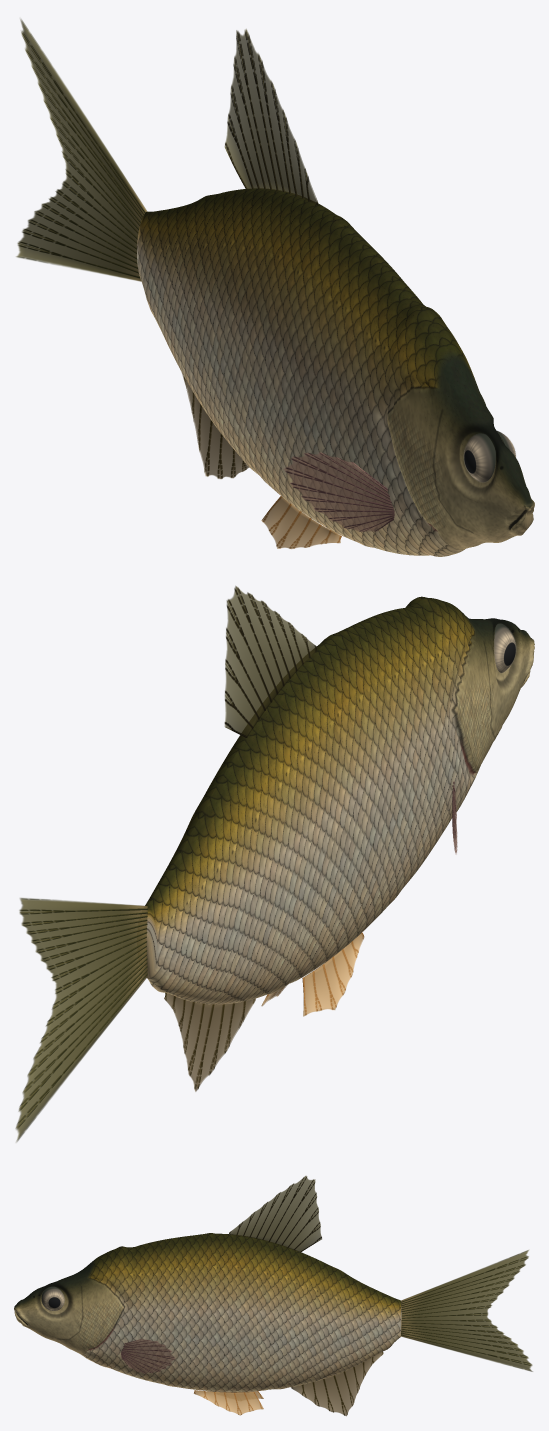
File: krap.glb
3 views of the same model, one above another, from view 1: azimuth 30°, elevation 25°; view 2: azimuth 150°, elevation 25°; view 3: azimuth 270°, elevation 25° (orthographic). The views are drawn at different scales.
Parts seen in each view (by area): view 1: Body, FinCaudal, FinDorsal1, FinPectoral, FinPelvic, FinAnal, EyeLeft; view 2: Body, FinCaudal, FinDorsal1, FinAnal, FinPelvic, EyeLeft; view 3: Body, FinCaudal, FinDorsal1, FinAnal, FinPectoral, FinPelvic, EyeRight.
Part boxes in pixels (box(x1,y1,x2,y2)): Body: box(137, 188, 534, 556); FinCaudal: box(16, 19, 147, 281); FinDorsal1: box(224, 29, 317, 205); FinPectoral: box(283, 452, 394, 531); FinPelvic: box(261, 496, 341, 548); FinAnal: box(181, 372, 248, 479); EyeLeft: box(464, 434, 495, 482); Body: box(145, 596, 534, 1004); FinCaudal: box(15, 898, 147, 1142); FinDorsal1: box(224, 586, 317, 737); FinAnal: box(164, 993, 255, 1091); FinPelvic: box(261, 932, 364, 1016); EyeLeft: box(494, 624, 515, 672); Body: box(14, 1233, 401, 1391); FinCaudal: box(401, 1250, 532, 1371); FinDorsal1: box(229, 1176, 321, 1252); FinAnal: box(291, 1351, 383, 1416); FinPectoral: box(121, 1338, 175, 1373); FinPelvic: box(194, 1390, 263, 1415); EyeRight: box(41, 1287, 64, 1310).
Bounding box in the file's own units: 0.1958 × 0.513 × 1.
8 materials, 7 textured.
